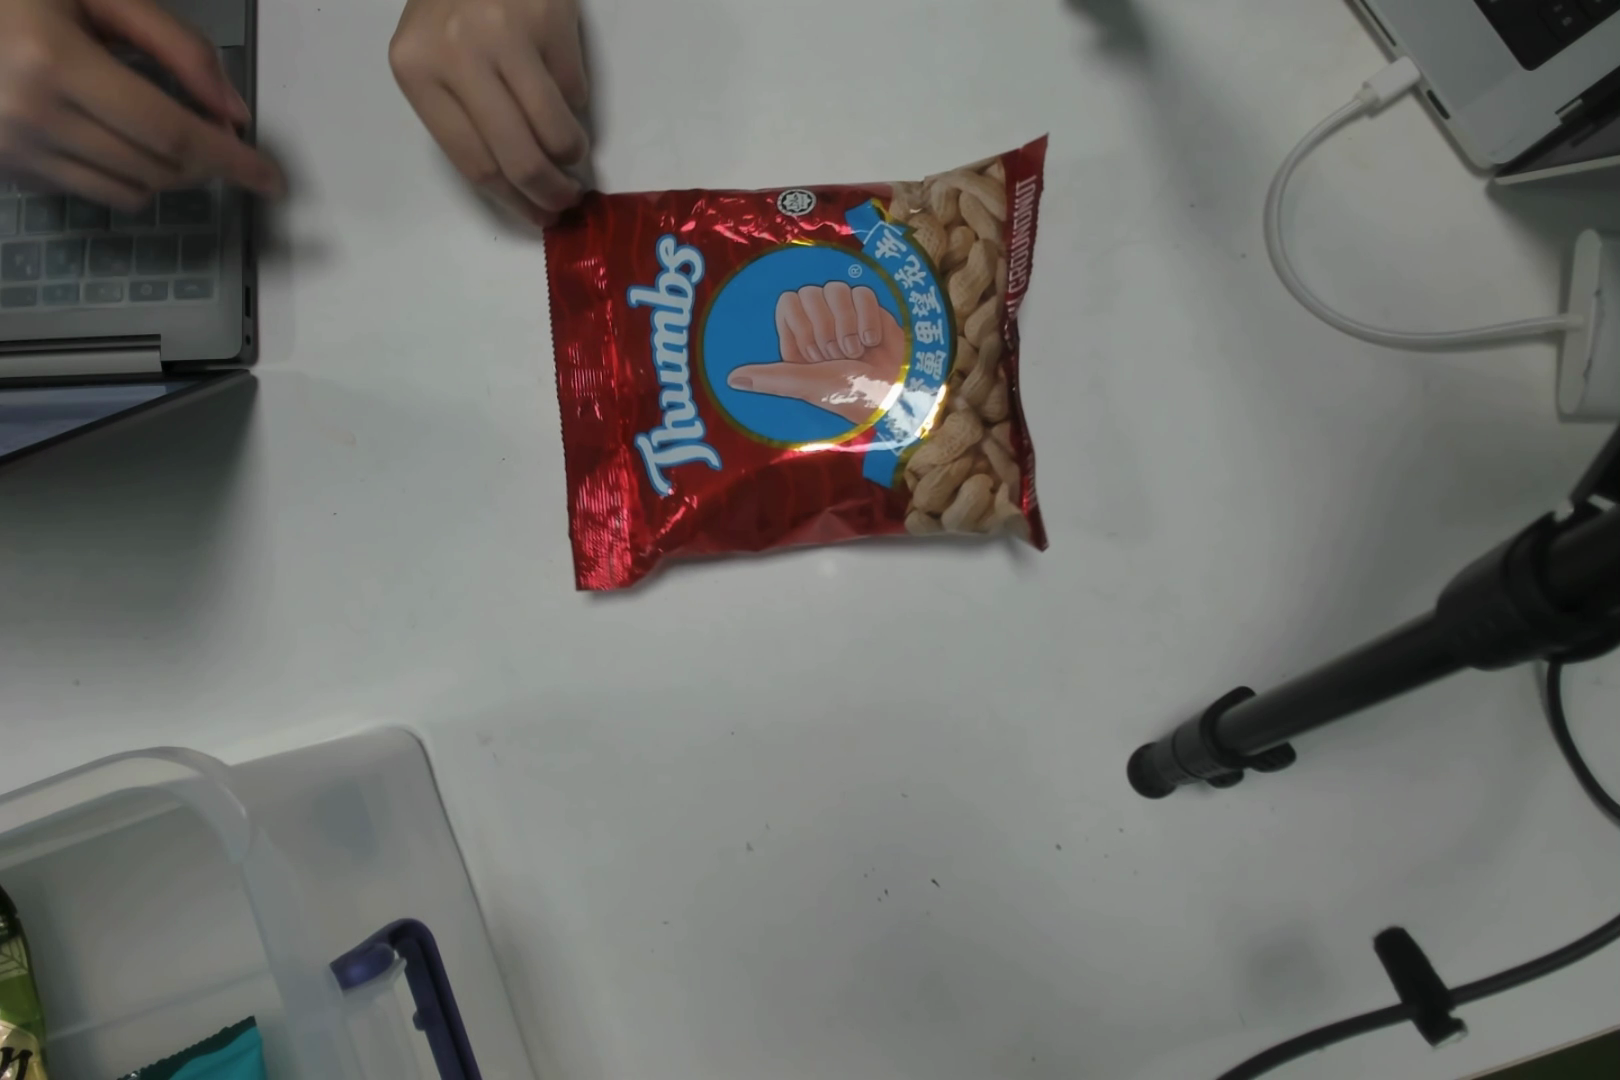Nuts_100-199g_Halal_NonHealthy: (567, 165, 1038, 556)
